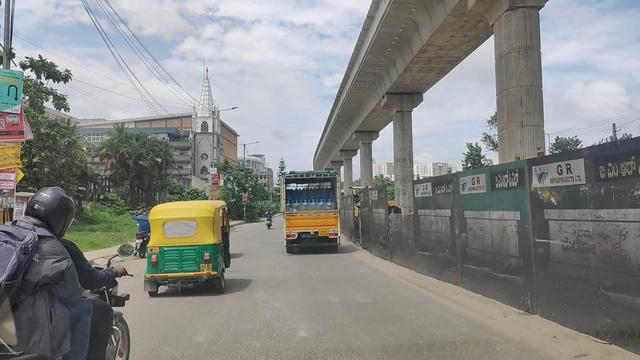HMV: (287, 168, 349, 259)
LMV: (139, 196, 229, 295)
